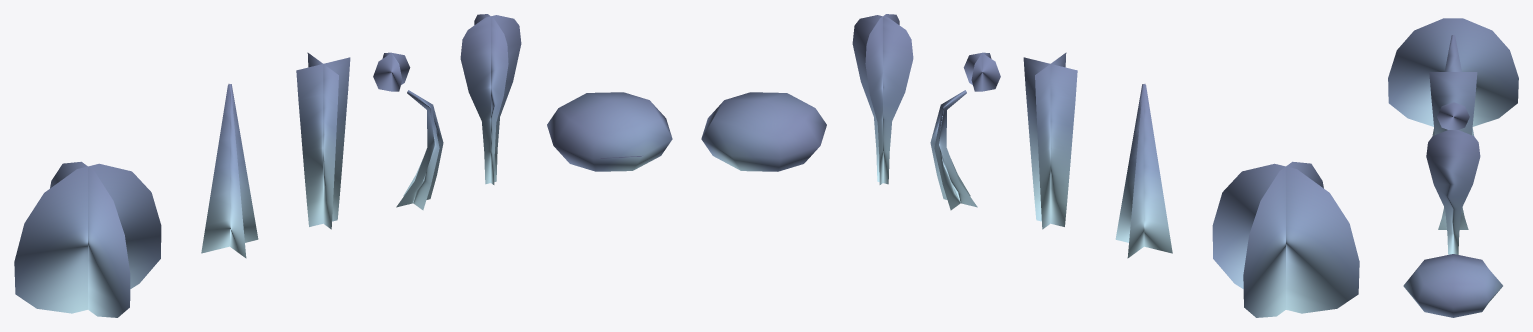
Rendered from Small_Deco.fbx.
The picture shows the model from 3 angles, left to right: view 1: azimuth 30°, elevation 25°; view 2: azimuth 150°, elevation 25°; view 3: azimuth 270°, elevation 25°; orthographic projection. The views are drawn at different scales.
Parts seen in each view (by area): view 1: Small_Grass_3, Small_Dirt, Small_Grass_2, Small_Moss, Small_Grass 1, Small_Flower; view 2: Small_Grass_3, Small_Dirt, Small_Grass_2, Small_Moss, Small_Grass 1, Small_Flower; view 3: Small_Grass_3, Small_Dirt, Small_Moss, Small_Grass_2, Small_Flower, Small_Grass 1.
Boxes of the visible parts, box(x1,y1,x2,y2) form: Small_Grass_3: box(14, 161, 161, 317); Small_Dirt: box(547, 92, 672, 171); Small_Grass_2: box(296, 52, 350, 229); Small_Moss: box(460, 14, 521, 184); Small_Grass 1: box(201, 84, 258, 258); Small_Flower: box(373, 52, 443, 210); Small_Grass_3: box(1212, 161, 1359, 317); Small_Dirt: box(701, 92, 826, 171); Small_Grass_2: box(1023, 52, 1077, 229); Small_Moss: box(852, 14, 913, 184); Small_Grass 1: box(1115, 84, 1172, 258); Small_Flower: box(930, 52, 1000, 210); Small_Grass_3: box(1388, 18, 1518, 126); Small_Dirt: box(1403, 254, 1502, 317); Small_Moss: box(1426, 130, 1480, 254); Small_Grass_2: box(1429, 72, 1477, 134); Small_Flower: box(1437, 102, 1469, 229); Small_Grass 1: box(1432, 35, 1473, 135).
Size of the model in its own units: 133 by 37.97 by 29.96.
